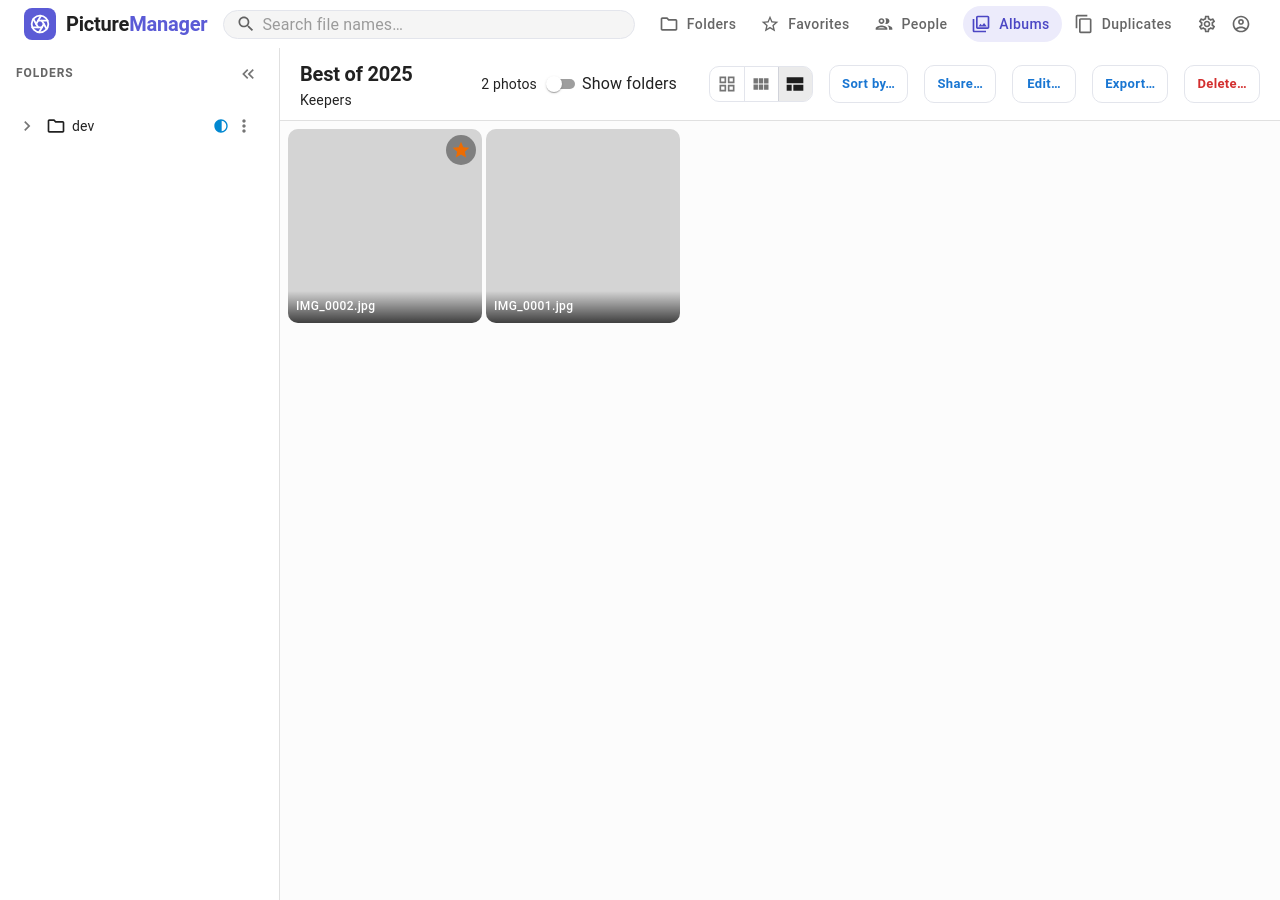
Scenario: ShareDialog › changes a person’s access and removes them
Step 1. Click the button "Share…" → (960, 84), box [924,65,996,103]
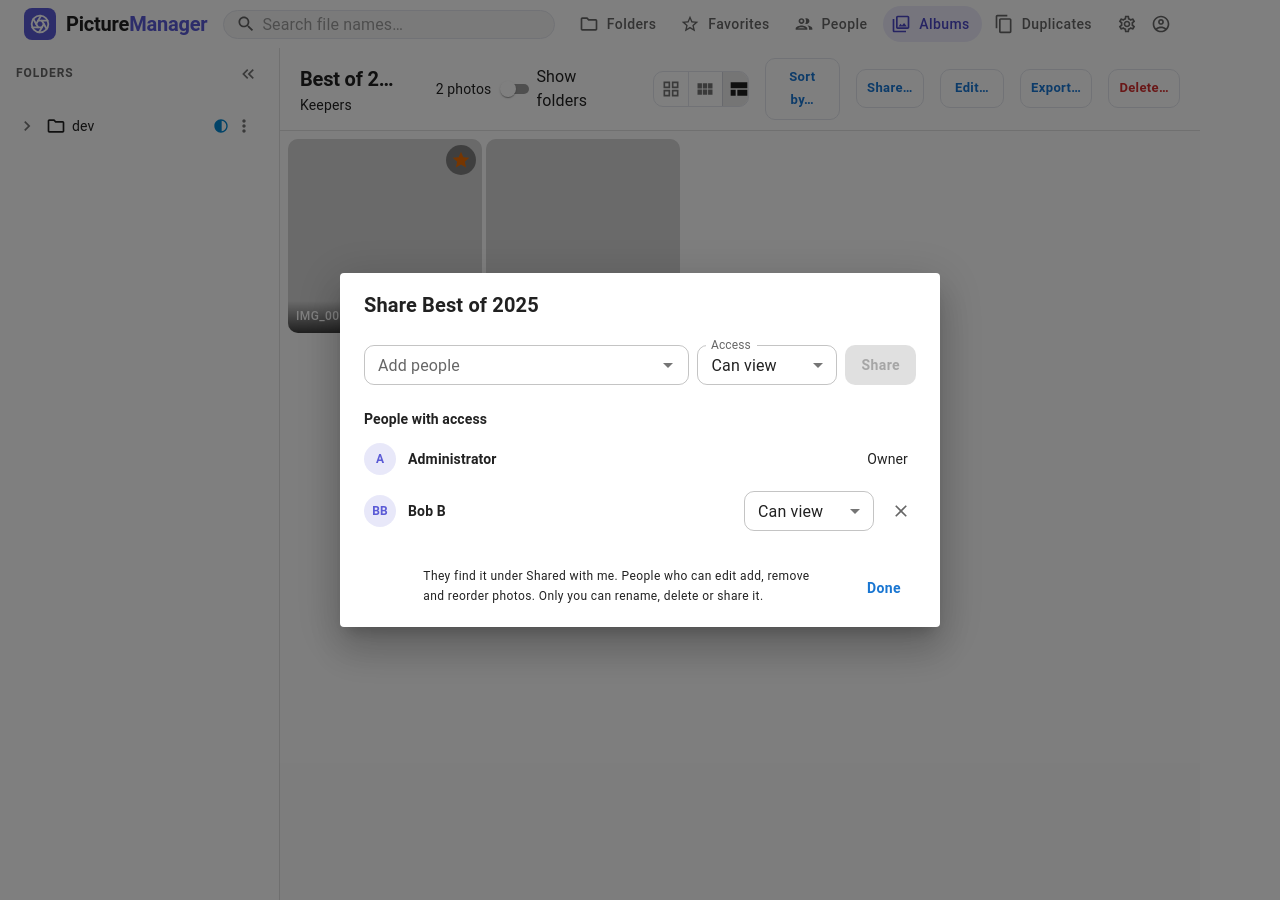
Step 2. Click the dropdown named "Access for Bob B" → (791, 511), box [758,502,823,521]
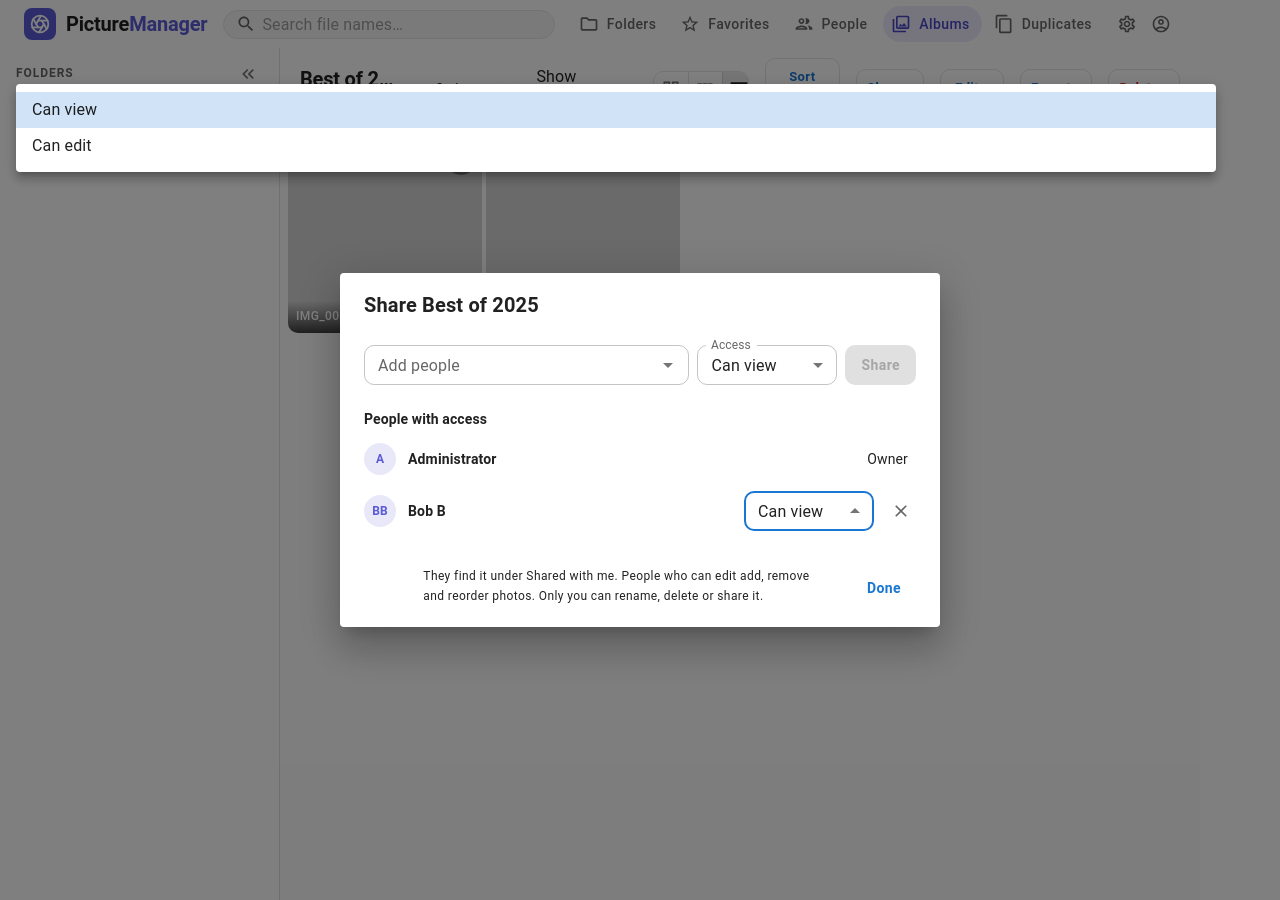
Step 3. Click the option "Can edit" → (62, 146), box [32,136,92,155]
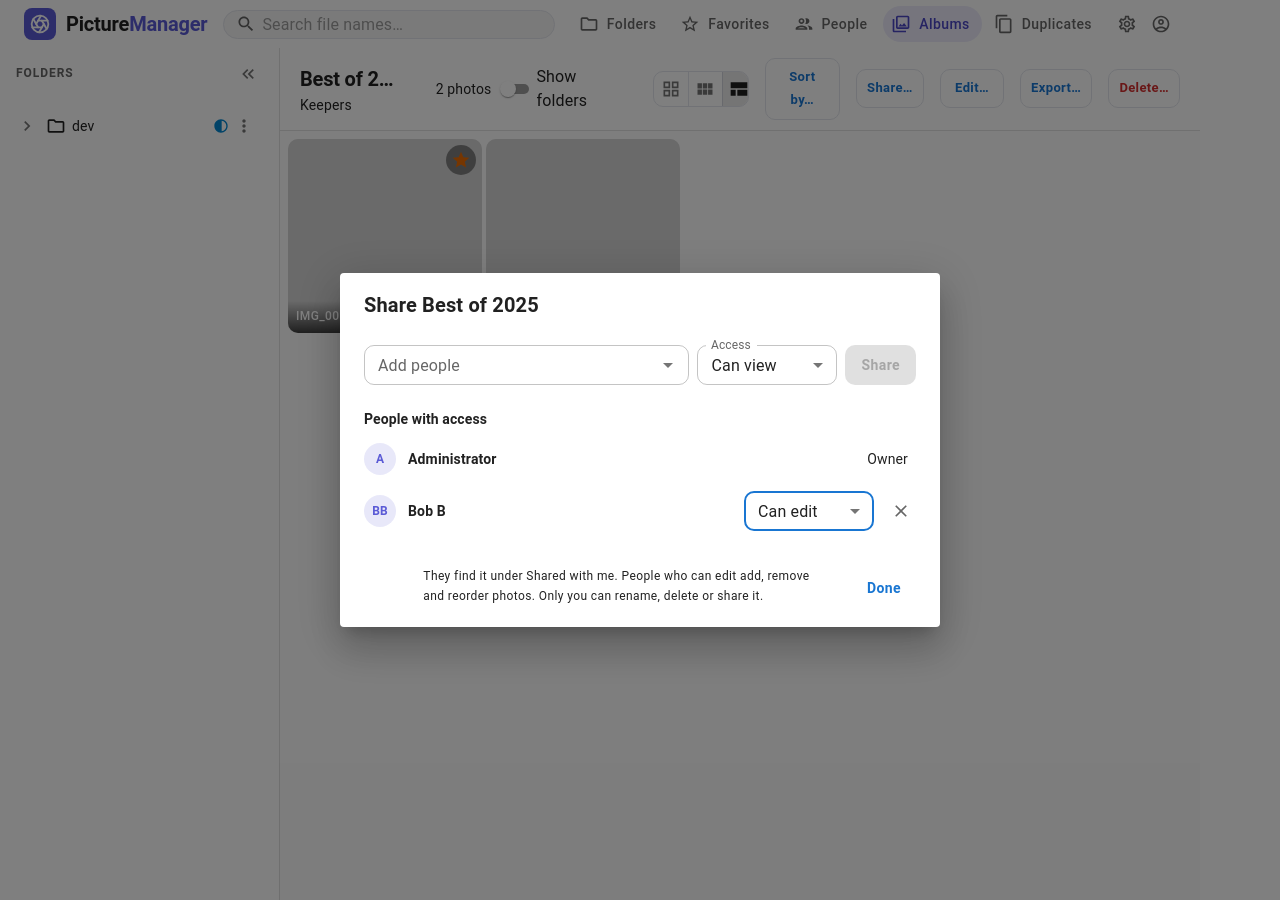
Step 4. Click the button named "Remove Bob B" → (901, 511), box [886,496,916,526]
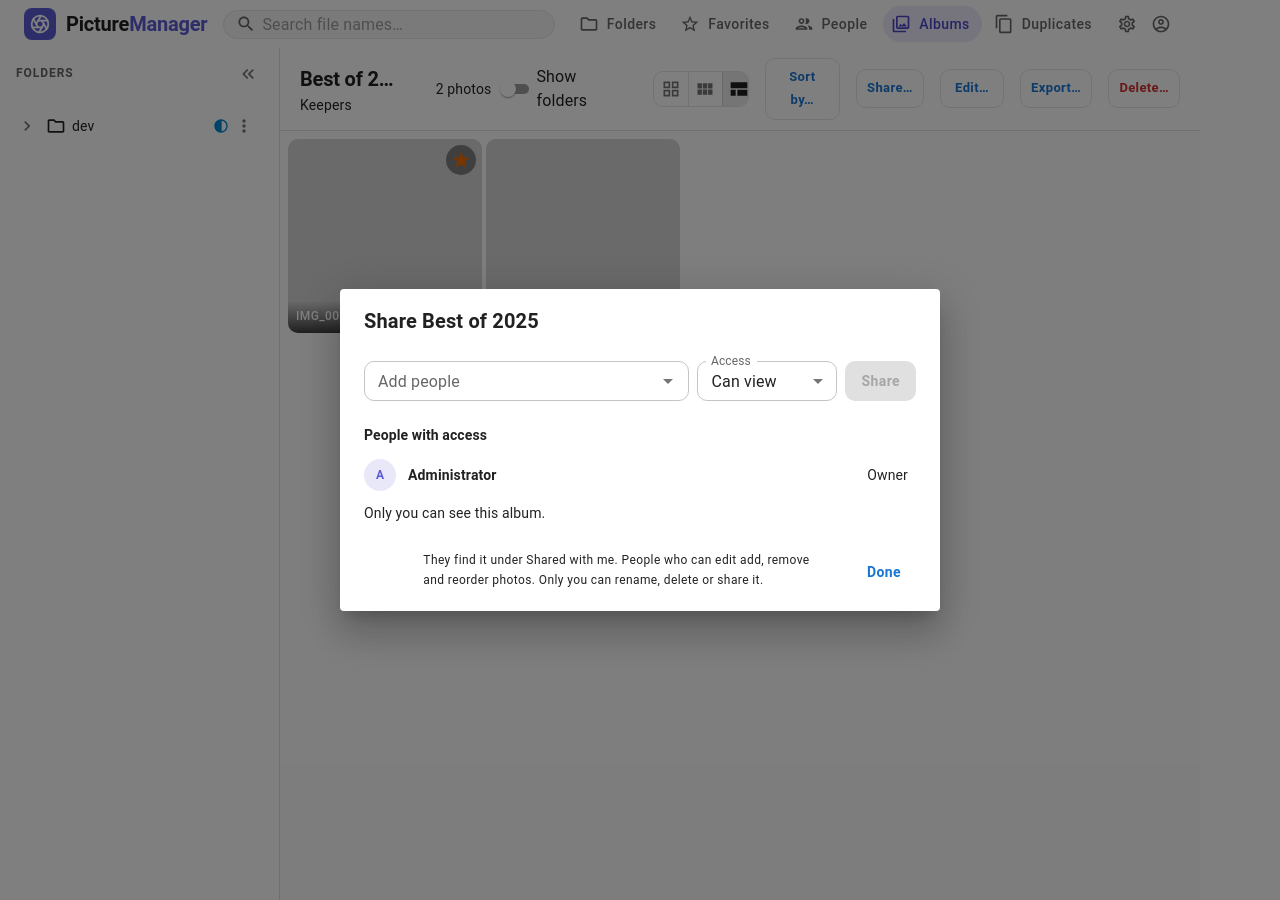
Now the text "Only you can see this album." is shown, box [364,505,545,521]
